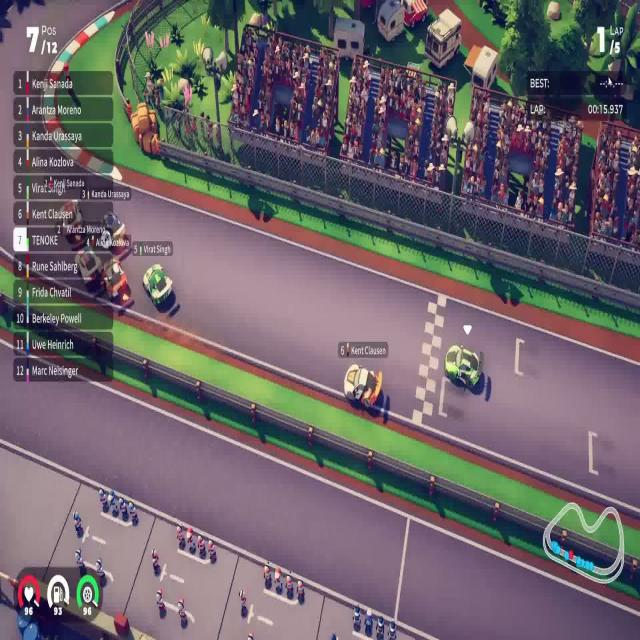car: (343, 363, 383, 411), (444, 342, 481, 390), (142, 262, 174, 310)
